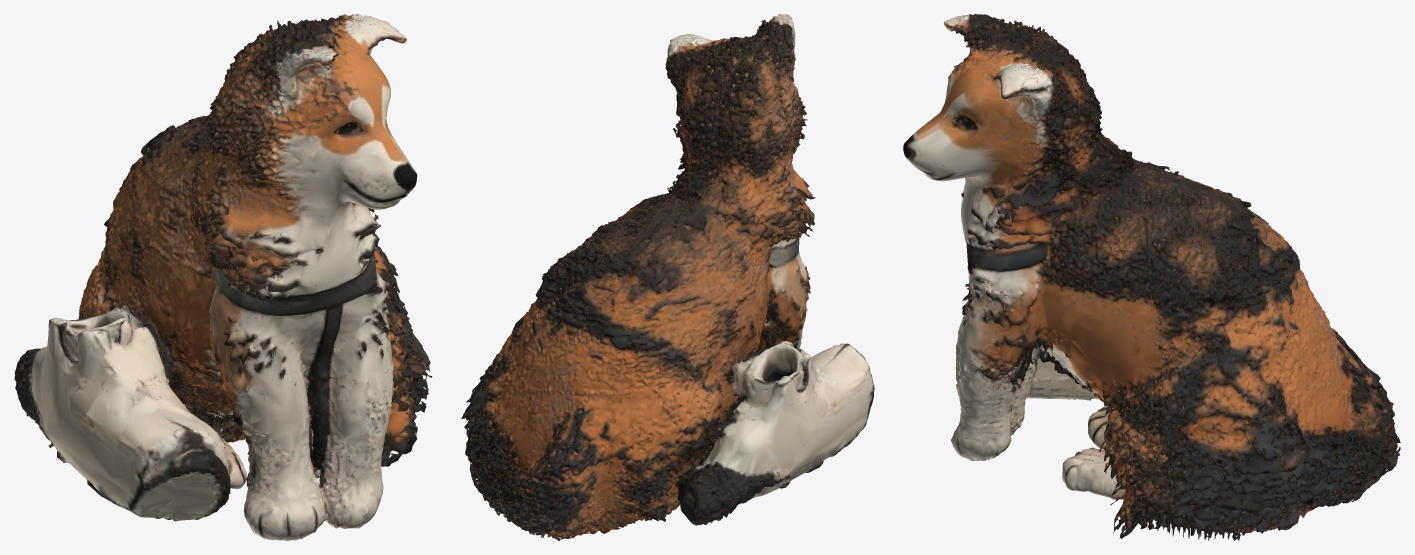
File: dog-compressed-basetoolbox.com (2).glb
3 views of the same model, side by side, from view 1: azimuth 30°, elevation 25°; view 2: azimuth 150°, elevation 25°; view 3: azimuth 270°, elevation 25° (orthographic). The views are drawn at different scales.
Size of the model in its own units: 1.51 by 2 by 1.98.
Materials: 1 (1 with a texture image).
